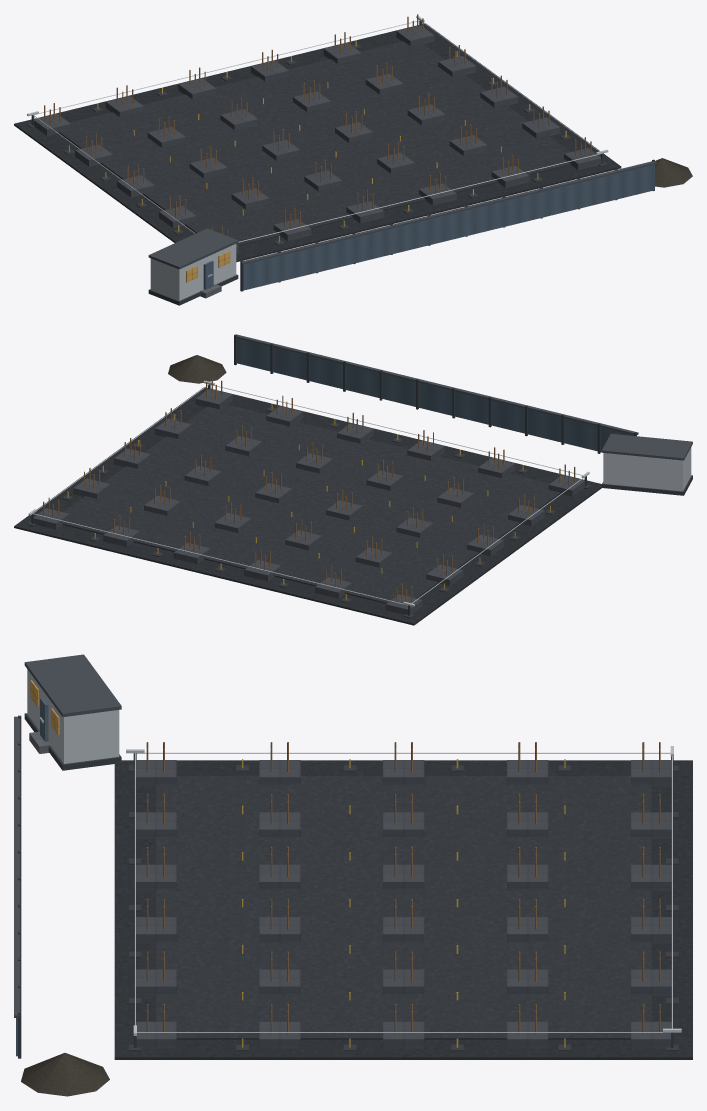
Rendered from trg-8-site.glb.
3 renders of one model, top to bottom at view 1: azimuth 30°, elevation 25°; view 2: azimuth 150°, elevation 25°; view 3: azimuth 270°, elevation 25°, orthographic. The views are drawn at different scales.
Bounding box in the file's own units: 44.1 × 3.1 × 32.87.
17 materials, 9 textured.
